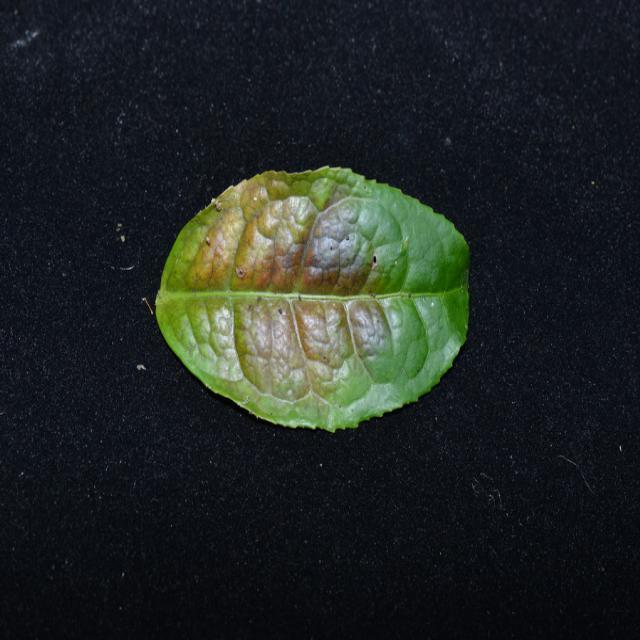Tea exobasidium blight: (194, 197, 404, 389)
